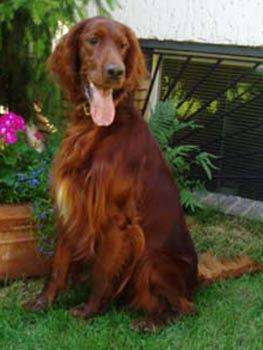Irish_setter: (18, 16, 262, 341)
